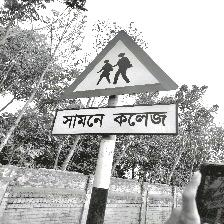College-in-front: (39, 18, 196, 153)
